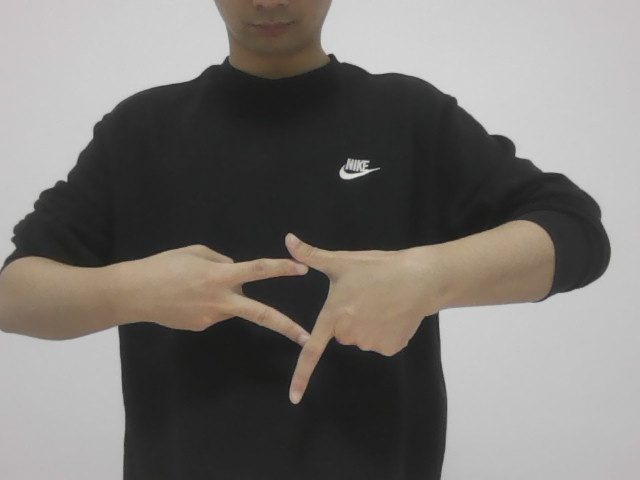introduce: (118, 229, 422, 409)
